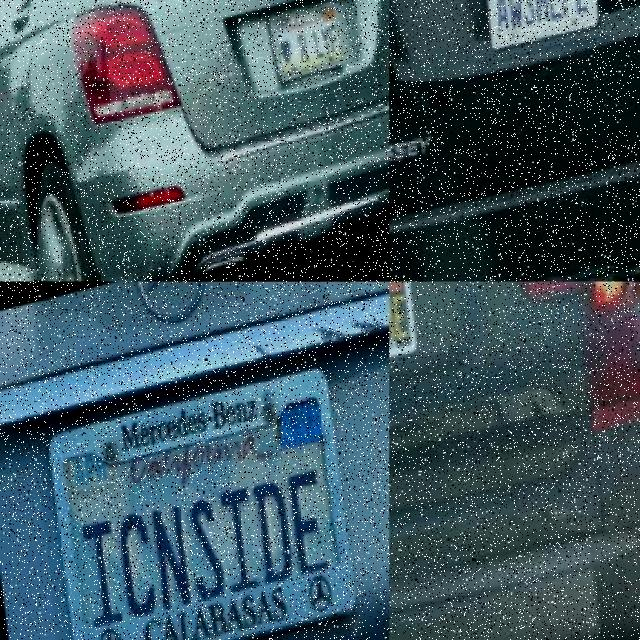licenseplate: (26, 360, 386, 640), (478, 0, 614, 66), (269, 0, 357, 83), (390, 281, 456, 377)
